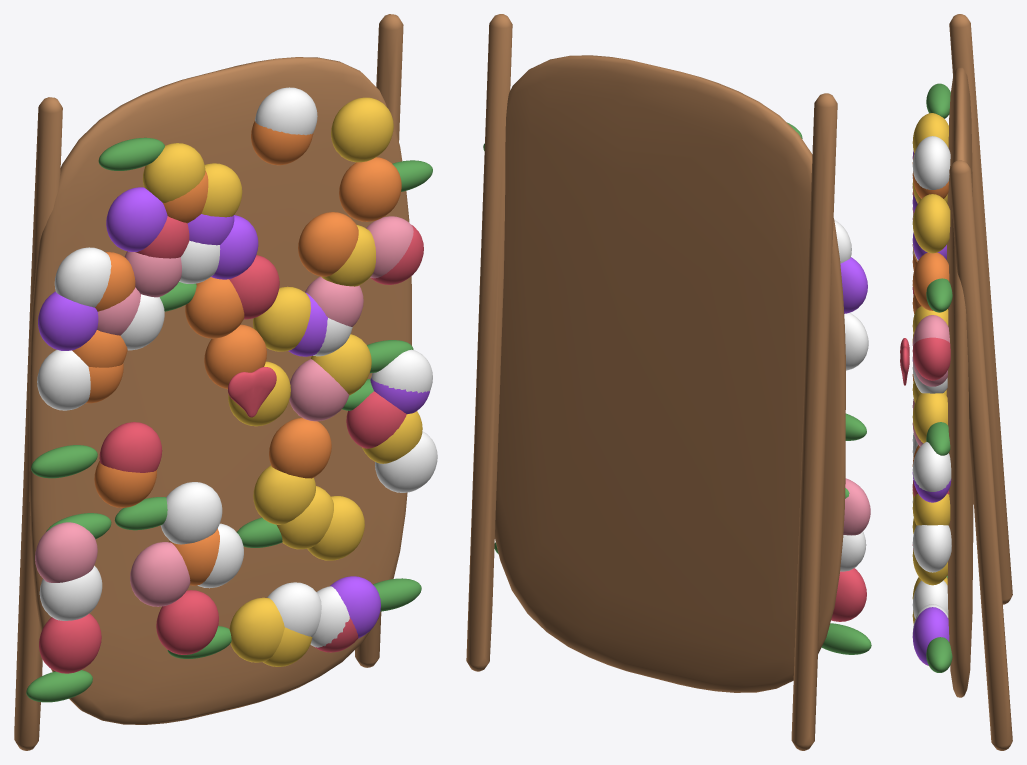
Rendered from deco_silleta.glb.
3 renders of one model, left to right at view 1: azimuth 30°, elevation 25°; view 2: azimuth 150°, elevation 25°; view 3: azimuth 270°, elevation 25°, orthographic. The views are drawn at different scales.
Visible parts, largest first — view 1: tabla silleta.001, pata silleta -1.001, flor silleta 37.001, pata silleta 1.001, flor silleta 30.001, flor silleta 42.001, flor silleta 9.001, flor silleta 28.001, flor silleta 44.001, flor silleta 59.001, flor silleta 38.001, flor silleta 5.001 (+60 smaller); view 2: tabla silleta.001, pata silleta -1.001, pata silleta 1.001, flor silleta 23.001, flor silleta 9.001, flor silleta 53.001, hoja silleta 9.001, flor silleta 46.001, flor silleta 16.001; view 3: pata silleta 1.001, tabla silleta.001, pata silleta -1.001, flor silleta 37.001, flor silleta 20.001, flor silleta 40.001, flor silleta 36.001, flor silleta 3.001, flor silleta 35.001, flor silleta 56.001, flor silleta 30.001, flor silleta 7.001 (+15 smaller).
Part boxes in pixels (x1=…): tabla silleta.001: x1=29, y1=57, x2=411, y2=724; pata silleta -1.001: x1=14, y1=97, x2=62, y2=750; flor silleta 37.001: x1=331, y1=97, x2=393, y2=162; pata silleta 1.001: x1=355, y1=14, x2=403, y2=667; flor silleta 30.001: x1=339, y1=157, x2=401, y2=221; flor silleta 42.001: x1=156, y1=590, x2=218, y2=654; flor silleta 9.001: x1=35, y1=522, x2=97, y2=582; flor silleta 28.001: x1=130, y1=542, x2=190, y2=606; flor silleta 44.001: x1=269, y1=418, x2=331, y2=478; flor silleta 59.001: x1=160, y1=482, x2=222, y2=544; flor silleta 38.001: x1=298, y1=212, x2=358, y2=276; flor silleta 5.001: x1=106, y1=187, x2=167, y2=251; tabla silleta.001: x1=495, y1=55, x2=845, y2=692; pata silleta -1.001: x1=791, y1=93, x2=837, y2=750; pata silleta 1.001: x1=466, y1=14, x2=512, y2=671; flor silleta 23.001: x1=831, y1=568, x2=866, y2=621; flor silleta 9.001: x1=843, y1=478, x2=870, y2=535; flor silleta 53.001: x1=840, y1=257, x2=867, y2=313; hoja silleta 9.001: x1=821, y1=623, x2=871, y2=654; flor silleta 46.001: x1=844, y1=312, x2=868, y2=370; flor silleta 16.001: x1=840, y1=531, x2=866, y2=571; pata silleta 1.001: x1=949, y1=160, x2=1012, y2=750; tabla silleta.001: x1=946, y1=67, x2=973, y2=697; pata silleta -1.001: x1=949, y1=14, x2=1012, y2=604; flor silleta 37.001: x1=912, y1=194, x2=950, y2=253; flor silleta 20.001: x1=912, y1=136, x2=950, y2=189; flor silleta 40.001: x1=912, y1=525, x2=951, y2=572; flor silleta 36.001: x1=912, y1=442, x2=951, y2=491; flor silleta 3.001: x1=912, y1=337, x2=950, y2=380; flor silleta 35.001: x1=912, y1=607, x2=949, y2=665; flor silleta 56.001: x1=912, y1=393, x2=947, y2=443; flor silleta 30.001: x1=912, y1=252, x2=949, y2=310; flor silleta 7.001: x1=912, y1=494, x2=950, y2=525.
Bounding box in the file's own units: 0.595 × 0.9391 × 0.1629.
